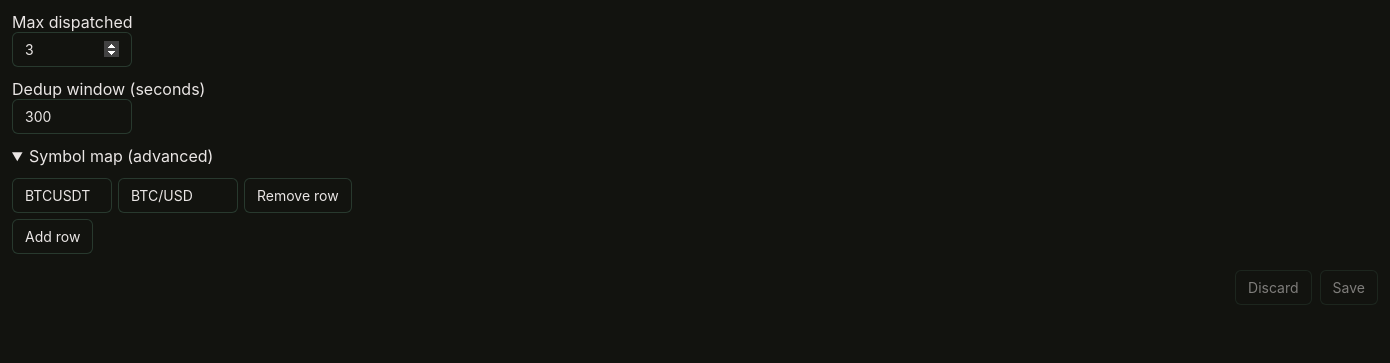
GlobalConfigForm › Add row appends a blank symbol row
The image size is (1390, 363).
Step 1. Click the button "Add row" → (53, 236), box top-left (12, 219), bottom-right (93, 254)
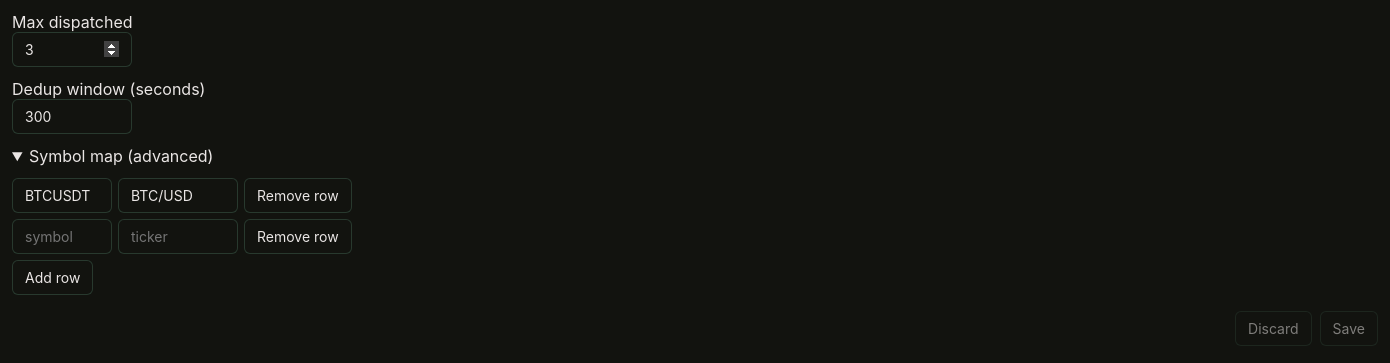
Now the number of fields named "symbol" is 2, box top-left (12, 178), bottom-right (112, 213); top-left (12, 219), bottom-right (112, 254)
